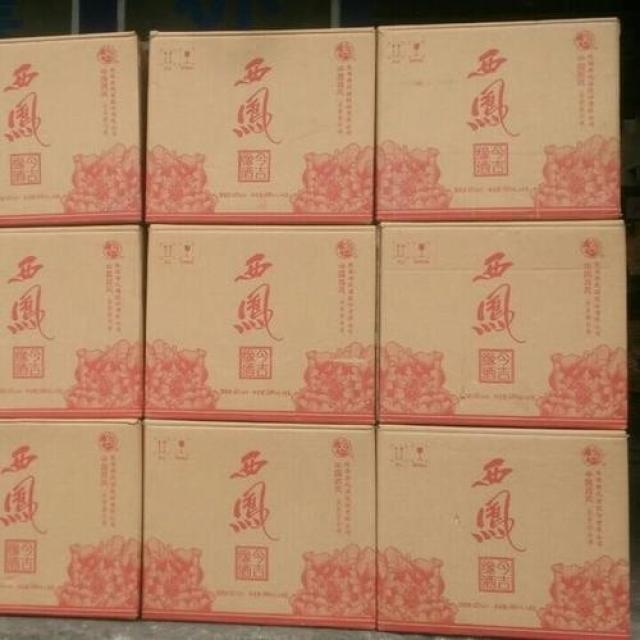box: (376, 425, 629, 639), (376, 221, 626, 431), (378, 18, 621, 222), (141, 423, 376, 631), (144, 225, 376, 427), (145, 27, 374, 223), (0, 34, 148, 229), (0, 419, 143, 618)
